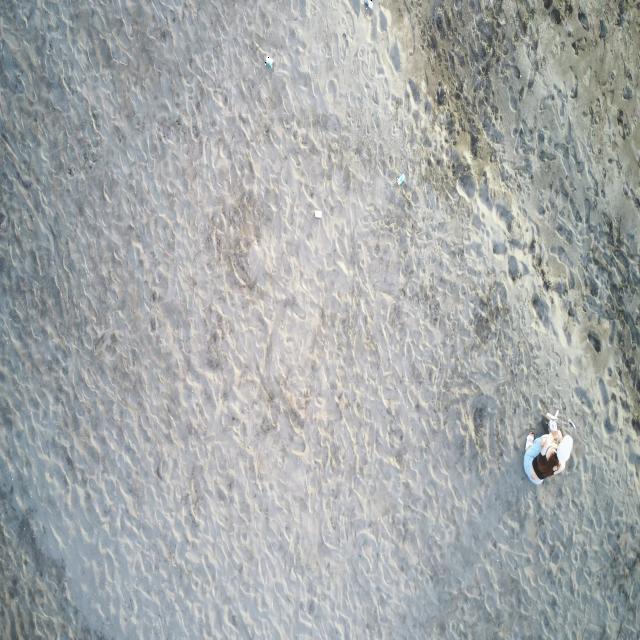tin-and-aluminum-cans: (265, 55, 274, 68), (397, 173, 406, 186), (362, 0, 373, 9), (314, 209, 322, 220)
